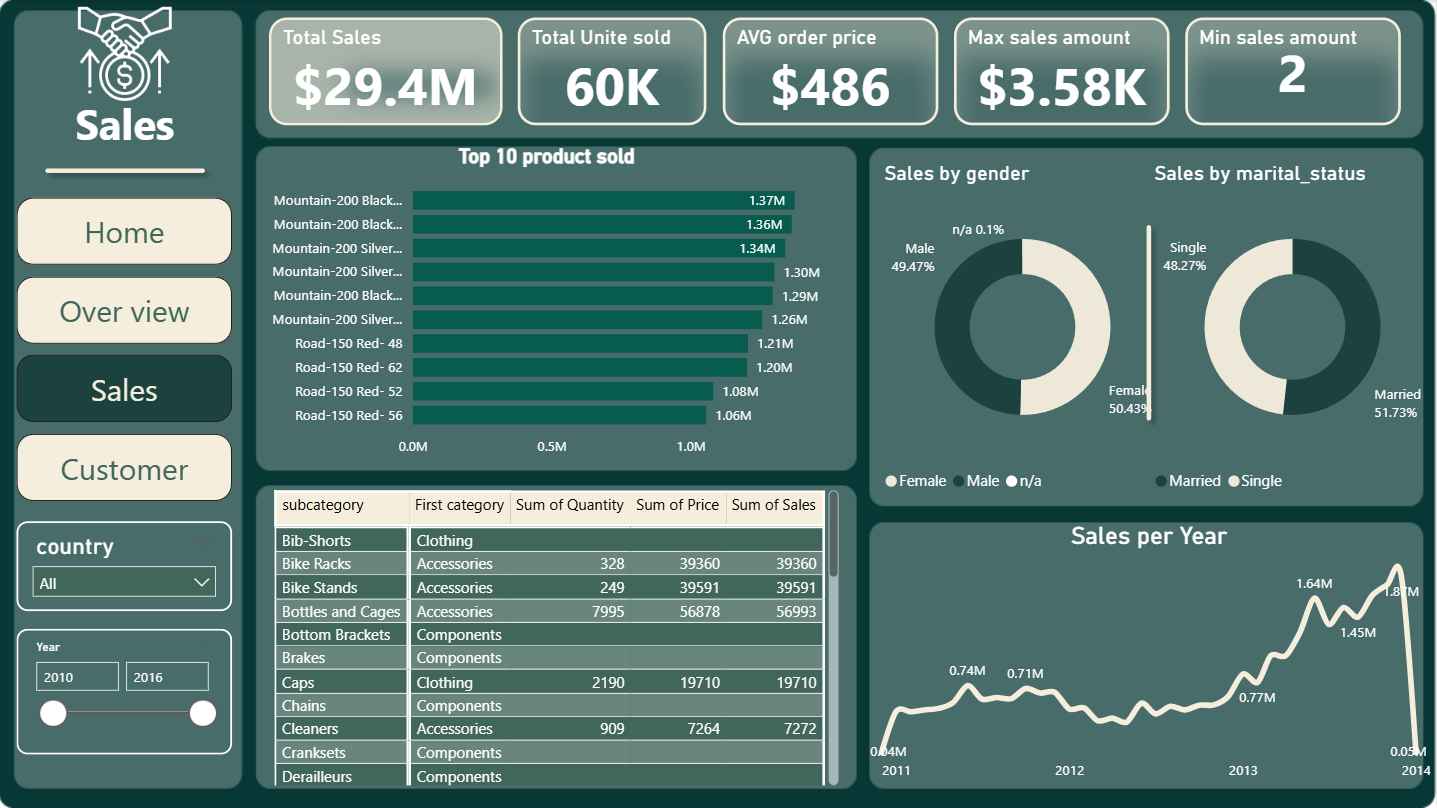

Layout of this report page (visuals, bound fields, positions):
{"tool":"powerbi","page":{"name":"Sales","canvas":[1280,720],"ordinal":2},"visuals":[{"type":"lineChart","title":" Sales per Year","fields":{"Y":["Sum(Fact_sales.Sales)"],"Category":["DateTable.Date.Variation.Date Hierarchy.Year","DateTable.Date.Variation.Date Hierarchy.Quarter","DateTable.Date.Variation.Date Hierarchy.Month"]},"box":[768,464,512,240],"z":0},{"type":"donutChart","title":"Sales by gender","fields":{"Category":["Dim_customers.gender"],"Y":["Sum(Fact_sales.Sales)"]},"box":[784,144,256,304],"z":1000},{"type":"donutChart","title":"Sales by marital_status","fields":{"Category":["Dim_customers.marital_status"],"Y":["Sum(Fact_sales.Sales)"]},"box":[1024,144,256,304],"z":2000},{"type":"shape","box":[944,192,160,192],"z":3000},{"type":"slicer","fields":{"Values":["Dim_customers.country"]},"box":[16,464,192,80],"z":4000},{"type":"card","title":"AVG order price","fields":{"Values":["Measurs.#AVG Unite Price"]},"box":[644,16,192,96],"z":5000},{"type":"card","title":"Total Unite sold","fields":{"Values":["Measurs.#Total Quantity"]},"box":[462,16,168,96],"z":6000},{"type":"card","title":"Total Sales","fields":{"Values":["Measurs.#Total sales"]},"box":[240,16,208,96],"z":7000},{"type":"card","title":"Max sales amount ","fields":{"Values":["Measurs.max sales"]},"box":[850,16,192,96],"z":8000},{"type":"card","title":"Min sales amount","fields":{"Values":["Measurs.Min sales"]},"box":[1056,16,192,96],"z":9000},{"type":"textbox","box":[0,80,224,64],"z":10000},{"type":"shape","box":[32,128,160,48],"z":11000},{"type":"bookmarkNavigator","box":[16,176,192,272],"z":12000},{"type":"image","box":[0,0,224,96],"z":13000},{"type":"slicer","fields":{"Values":["DateTable.Year"]},"box":[16,560,192,112],"z":14000},{"type":"clusteredBarChart","title":"Top 10 product sold","fields":{"Y":["Sum(Fact_sales.Sales)"],"Category":["Dim_products.product_name"]},"box":[224,128,528,288],"z":15000},{"type":"pivotTable","fields":{"Rows":["Dim_products.subcategory"],"Values":["Min(Dim_products.category)","Sum(Fact_sales.Quantity)","Sum(Fact_sales.Price)","Sum(Fact_sales.Sales)"]},"box":[240,432,512,272],"z":16000}]}

Visuals, with their boxes in screenshot pixels (x1, y1, x2, y2), scaled from the page's 1280x720 canvas onto the 1437x808 screenshot:
" Sales per Year" lineChart: bbox=[862, 521, 1436, 790]
"Sales by gender" donutChart: bbox=[880, 162, 1168, 503]
"Sales by marital_status" donutChart: bbox=[1150, 162, 1436, 503]
shape: bbox=[1060, 215, 1239, 431]
slicer - Dim_customers.country: bbox=[18, 521, 234, 610]
"AVG order price" card: bbox=[723, 18, 939, 126]
"Total Unite sold" card: bbox=[519, 18, 707, 126]
"Total Sales" card: bbox=[269, 18, 503, 126]
"Max sales amount " card: bbox=[954, 18, 1170, 126]
"Min sales amount" card: bbox=[1186, 18, 1401, 126]
textbox: bbox=[0, 90, 251, 162]
shape: bbox=[36, 144, 216, 198]
bookmarkNavigator: bbox=[18, 198, 234, 503]
image: bbox=[0, 0, 251, 108]
slicer - DateTable.Year: bbox=[18, 628, 234, 754]
"Top 10 product sold" clusteredBarChart: bbox=[251, 144, 844, 467]
pivotTable - Dim_products.subcategory x Min(Dim_products.category): bbox=[269, 485, 844, 790]
